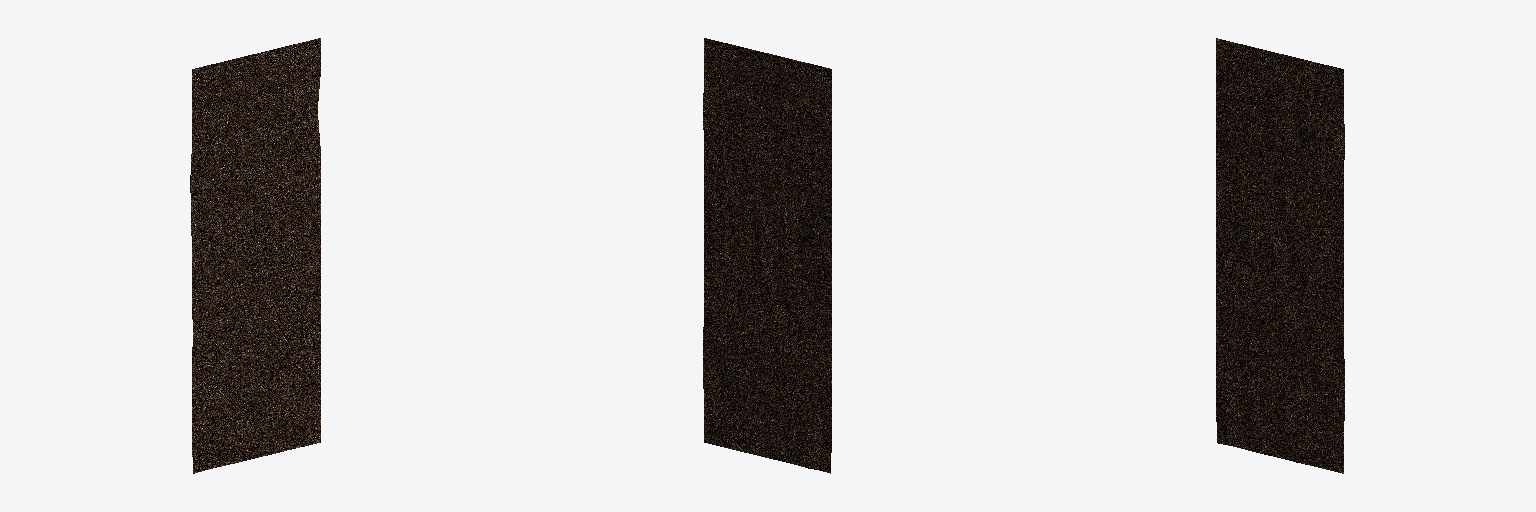
The picture shows the model from 3 angles: view 1: azimuth 30°, elevation 25°; view 2: azimuth 150°, elevation 25°; view 3: azimuth 330°, elevation 25°; orthographic projection.
Visible parts, largest first — view 1: plane; view 2: plane; view 3: plane.
Part boxes in pixels (bbox=[...]): plane: bbox=[190, 38, 320, 473]; plane: bbox=[703, 38, 831, 473]; plane: bbox=[1216, 38, 1344, 473].
Bounding box in the file's own units: 20.15 × 60.33 × 0.7801.
Materials: 1 (1 with a texture image).